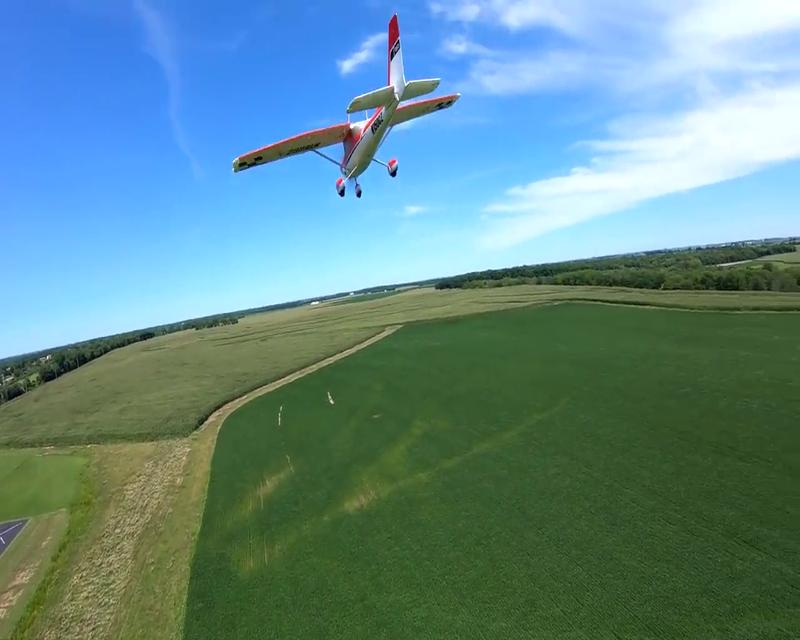UAV: (230, 14, 462, 199)
